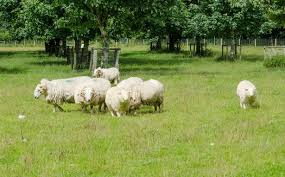sheep: (32, 76, 84, 111), (129, 77, 167, 114), (77, 77, 116, 111), (234, 79, 261, 114), (86, 63, 125, 84), (109, 86, 134, 116)
